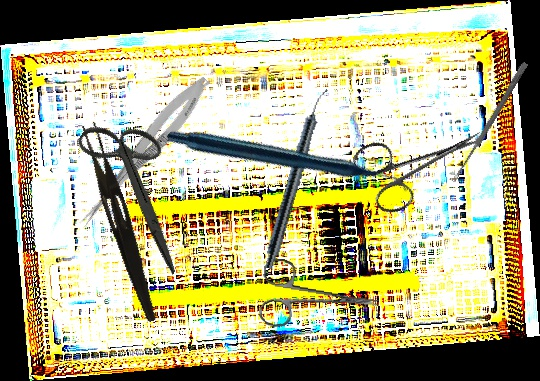Dressing Forceps: (74, 121, 167, 324)
Handpiece: (163, 38, 411, 289), (261, 85, 331, 272)
Iris Scissors: (43, 102, 232, 276), (349, 101, 496, 220), (257, 257, 382, 339)
Micro Scissor: (73, 69, 216, 236)
Surgical Spoon: (450, 61, 529, 184)
